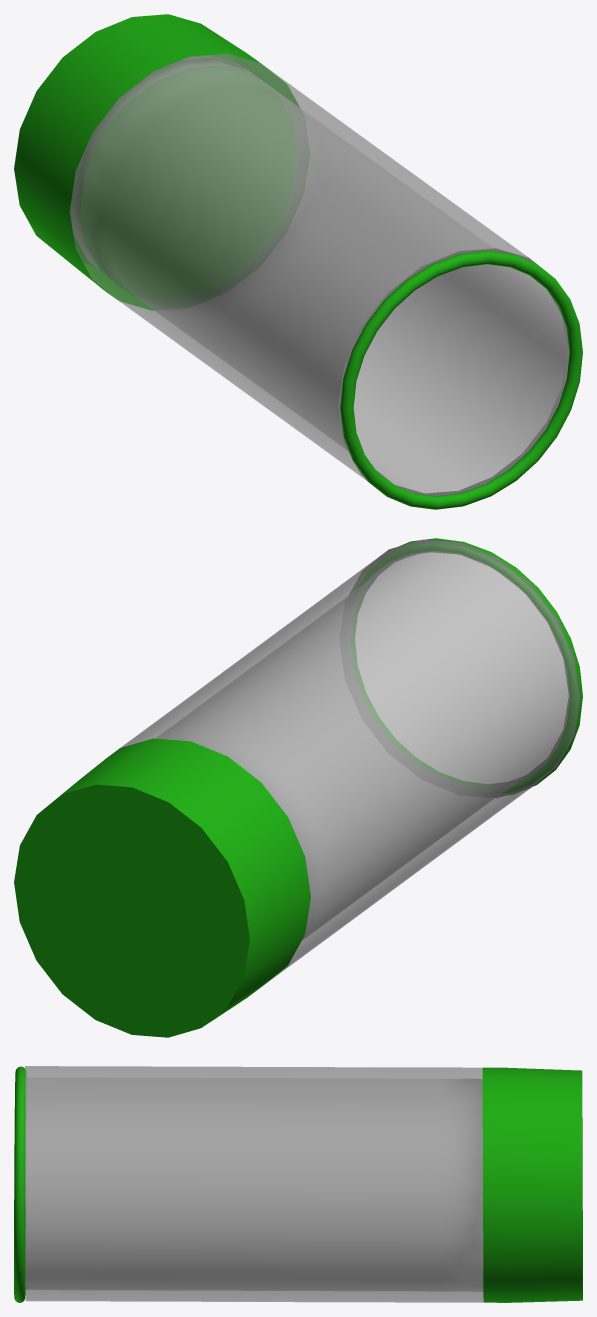
The model's file is cylinder pick balls.FBX.
3 renders of one model, top to bottom at view 1: azimuth 30°, elevation 25°; view 2: azimuth 150°, elevation 25°; view 3: azimuth 270°, elevation 25°, orthographic. The views are drawn at different scales.
Parts seen in each view (by area): view 1: Circle001; view 2: Circle001; view 3: Circle001.
Boxes of the visible parts, <box> form: Circle001: <box>14,14,582,509</box>; Circle001: <box>14,538,582,1037</box>; Circle001: <box>14,1066,582,1302</box>.
Bounding box in the file's own units: 43.04 × 43.41 × 103.
